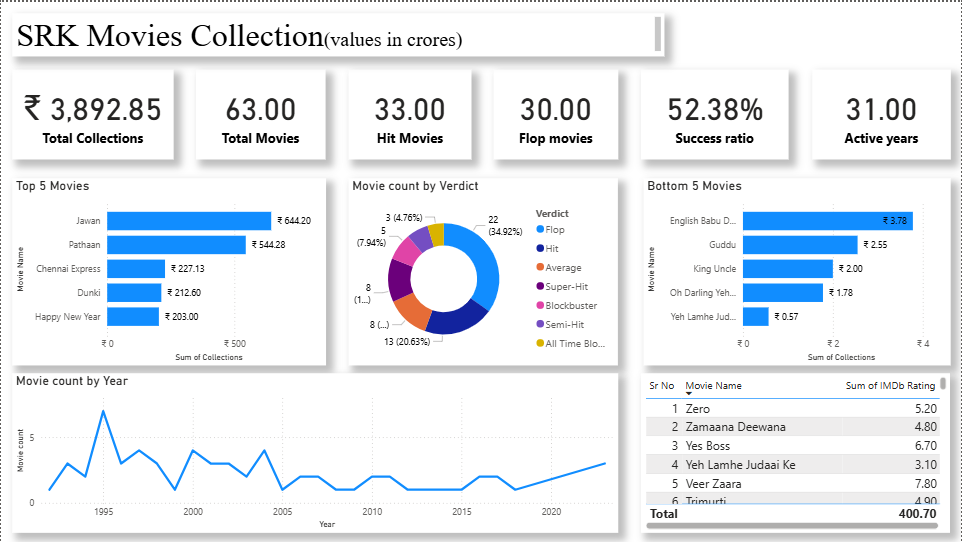

The dashboard page shown, as its layout file describes it:
{"tool":"powerbi","page":{"name":"Dashboard","canvas":[1280,720],"ordinal":0},"visuals":[{"type":"card","title":"(values in crore)","fields":{"Values":["Sum(SRK Movie Collection.Collections)"]},"box":[14.7,89.3,215.2,119.8],"z":0},{"type":"card","fields":{"Values":["Calender Table.Movie count"]},"box":[260.2,89.3,172.4,119.8],"z":1000},{"type":"card","fields":{"Values":["Sum(SRK Movie Collection.Verdict Flag)"]},"box":[463,89.3,163.9,119.8],"z":2000},{"type":"card","fields":{"Values":["Calender Table.Flop movie count"]},"box":[657.2,89.3,166.3,119.8],"z":3000},{"type":"card","fields":{"Values":["Calender Table.Success ratio"]},"box":[853.8,89.3,196.9,119.8],"z":4000},{"type":"textbox","box":[14.7,14.7,869.4,57.5],"z":5000},{"type":"card","fields":{"Values":["Calender Table.Active years"]},"box":[1081,89.3,184.6,119.8],"z":6000},{"type":"clusteredBarChart","title":"Top 5 Movies","fields":{"Category":["SRK Movie Collection.Movie Name"],"Y":["Sum(SRK Movie Collection.Collections)"]},"box":[14.7,234.8,418.2,249.5],"z":7000},{"type":"clusteredBarChart","title":" Bottom 5 Movies","fields":{"Category":["SRK Movie Collection.Movie Name"],"Y":["Sum(SRK Movie Collection.Collections)"]},"box":[856,234.8,409.6,249.5],"z":8000},{"type":"donutChart","fields":{"Category":["SRK Movie Collection.Verdict"],"Y":["Calender Table.Movie count"]},"box":[463.5,234.8,359.5,249.5],"z":9000},{"type":"lineChart","fields":{"Y":["Calender Table.Movie count"],"Category":["Calender Table.Date.Variation.Date Hierarchy.Year"]},"box":[14.7,495.2,808.3,212.8],"z":10000},{"type":"tableEx","fields":{"Values":["SRK Movie Collection.Sr No","SRK Movie Collection.Movie Name","Sum(SRK Movies IMDB.IMDb Rating)"]},"box":[853.5,495.2,412.1,212.8],"z":11000}]}

Visuals, with their boxes in screenshot pixels (x1, y1, x2, y2), scaled from the page's 1280x720 canvas onto the 962x542 screenshot:
"(values in crore)" card: BBox(11, 67, 173, 157)
card - Calender Table.Movie count: BBox(196, 67, 325, 157)
card - Sum(SRK Movie Collection.Verdict Flag): BBox(348, 67, 471, 157)
card - Calender Table.Flop movie count: BBox(494, 67, 619, 157)
card - Calender Table.Success ratio: BBox(642, 67, 790, 157)
textbox: BBox(11, 11, 664, 54)
card - Calender Table.Active years: BBox(812, 67, 951, 157)
"Top 5 Movies" clusteredBarChart: BBox(11, 177, 325, 365)
" Bottom 5 Movies" clusteredBarChart: BBox(643, 177, 951, 365)
donutChart - SRK Movie Collection.Verdict x Calender Table.Movie count: BBox(348, 177, 619, 365)
lineChart - Calender Table.Movie count x Calender Table.Date.Variation.Date Hierarchy.Year: BBox(11, 373, 619, 533)
tableEx - SRK Movie Collection.Sr No x SRK Movie Collection.Movie Name: BBox(641, 373, 951, 533)
